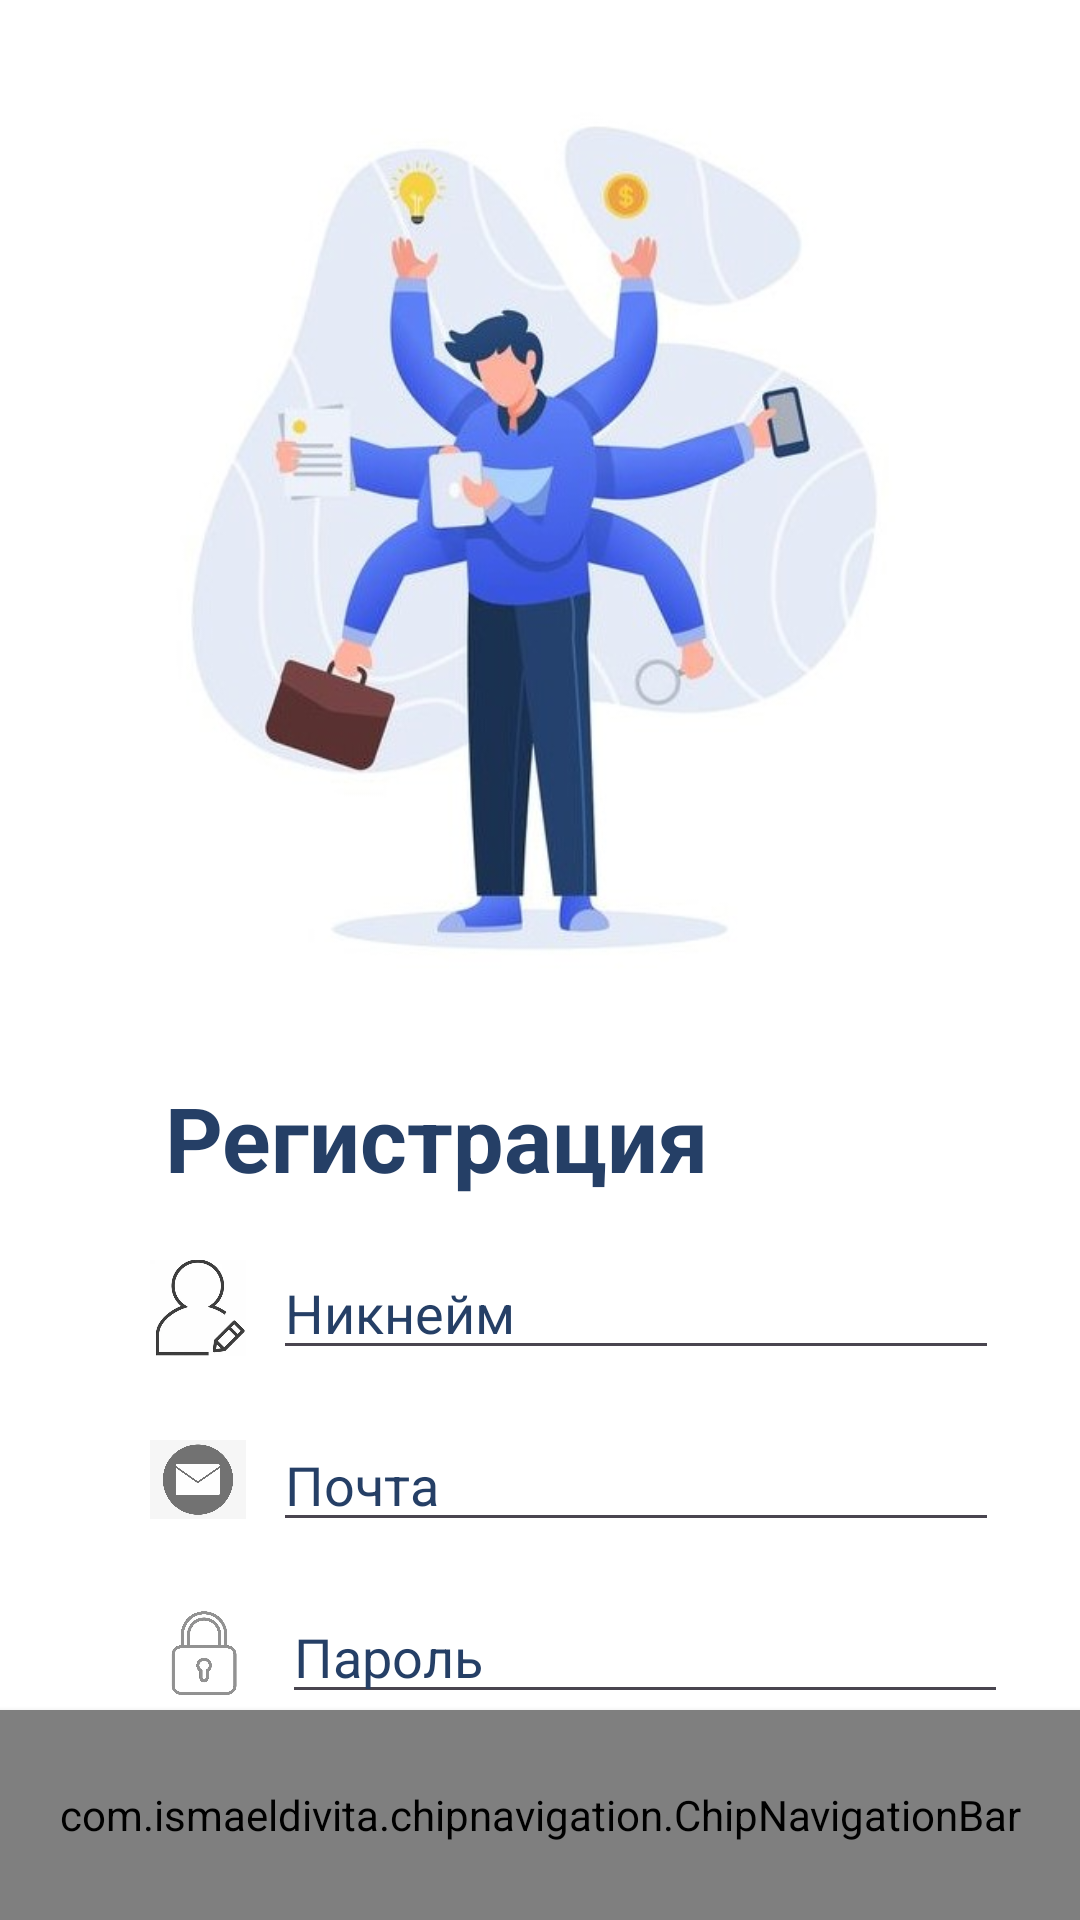

Named icons in this screenshot (1080*1920) and their bounding boxes, (x1, y1, x2, y2):
profile: (156, 1260, 245, 1356)
